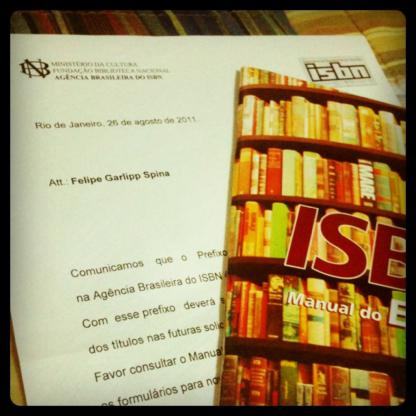book: (12, 6, 408, 404), (219, 66, 408, 407)
